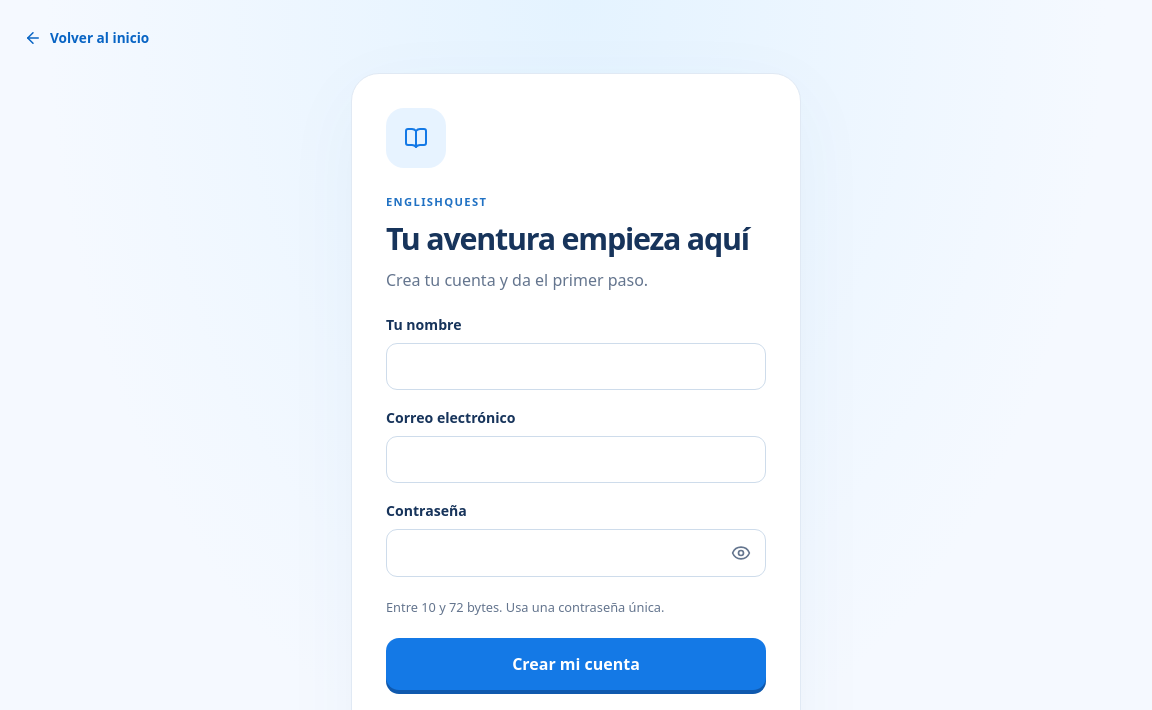
Scenario: Authentication forms › rejects short passwords before registration
Type "Alex" into the field labelled "Tu nombre" at (576, 367), box [386,343,766,390]
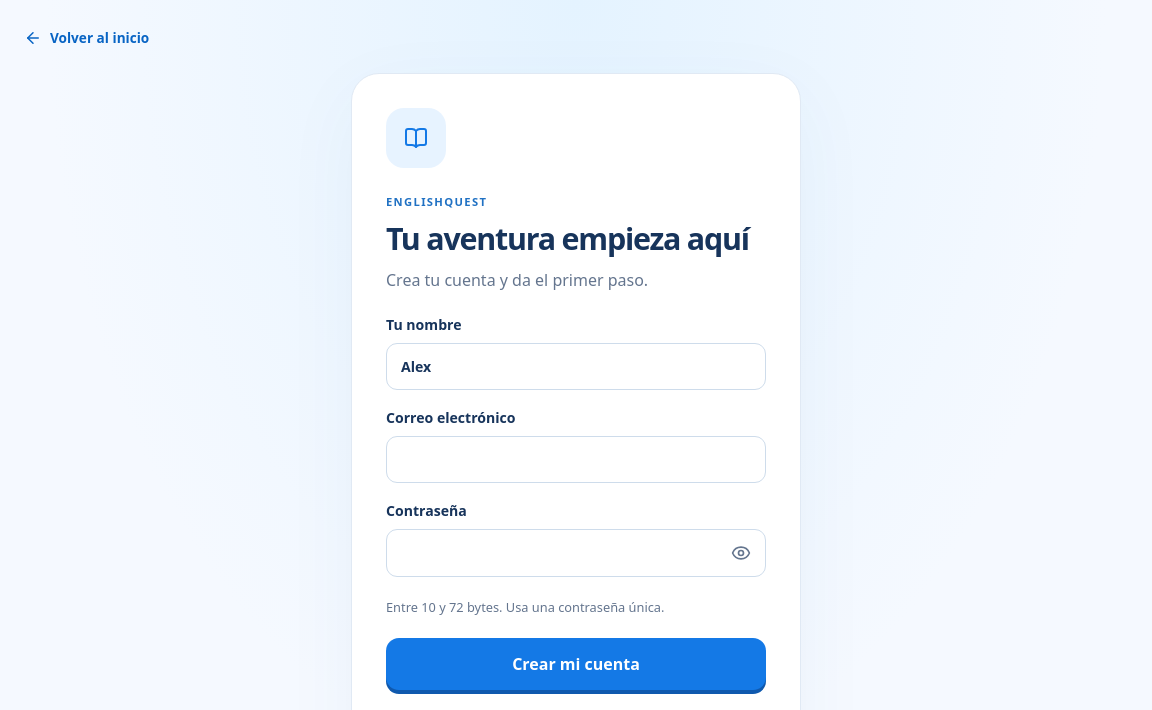
Type "alex@example.org" into the field labelled "Correo electrónico" at (576, 460), box [386,436,766,483]
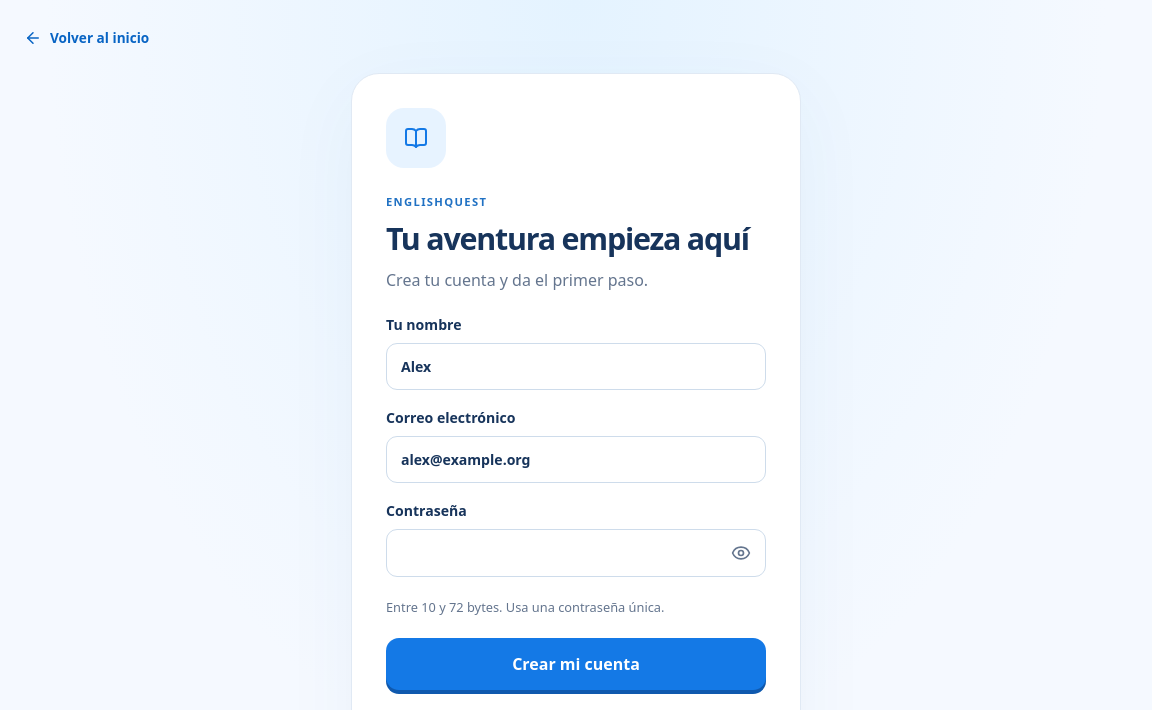
Type "short" into the password field labelled "Contraseña" at (576, 553), box [386,529,766,576]
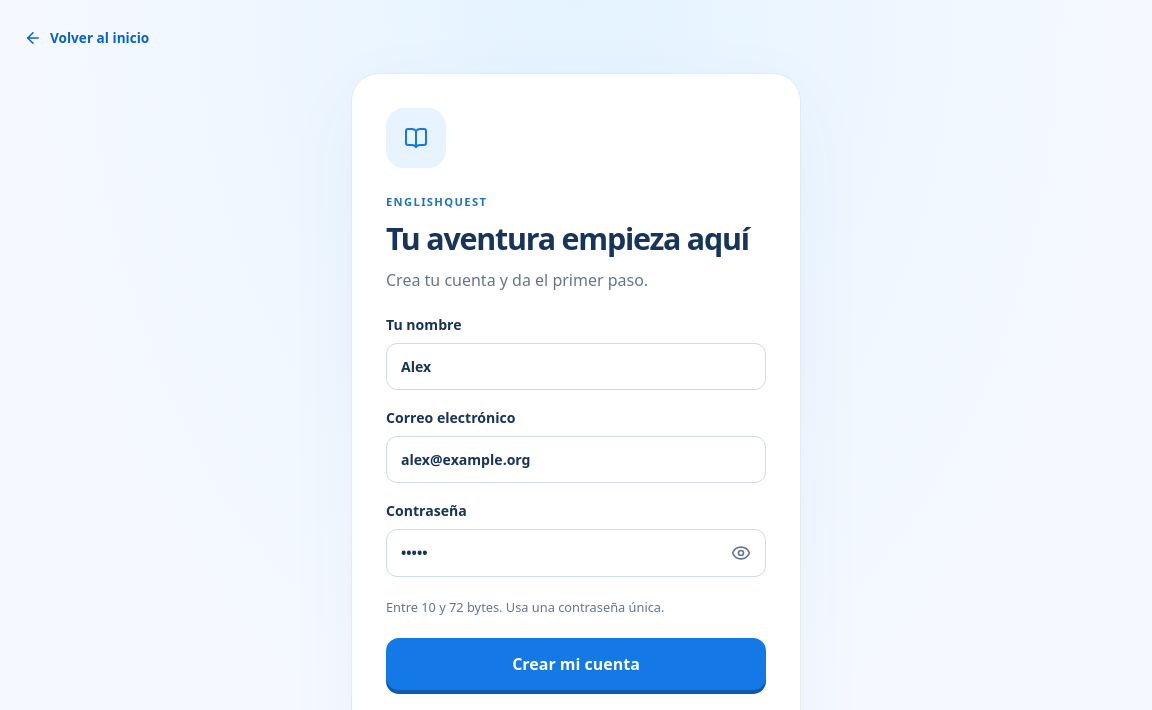
Submit the form named "Crear mi cuenta", box [386,314,766,690]
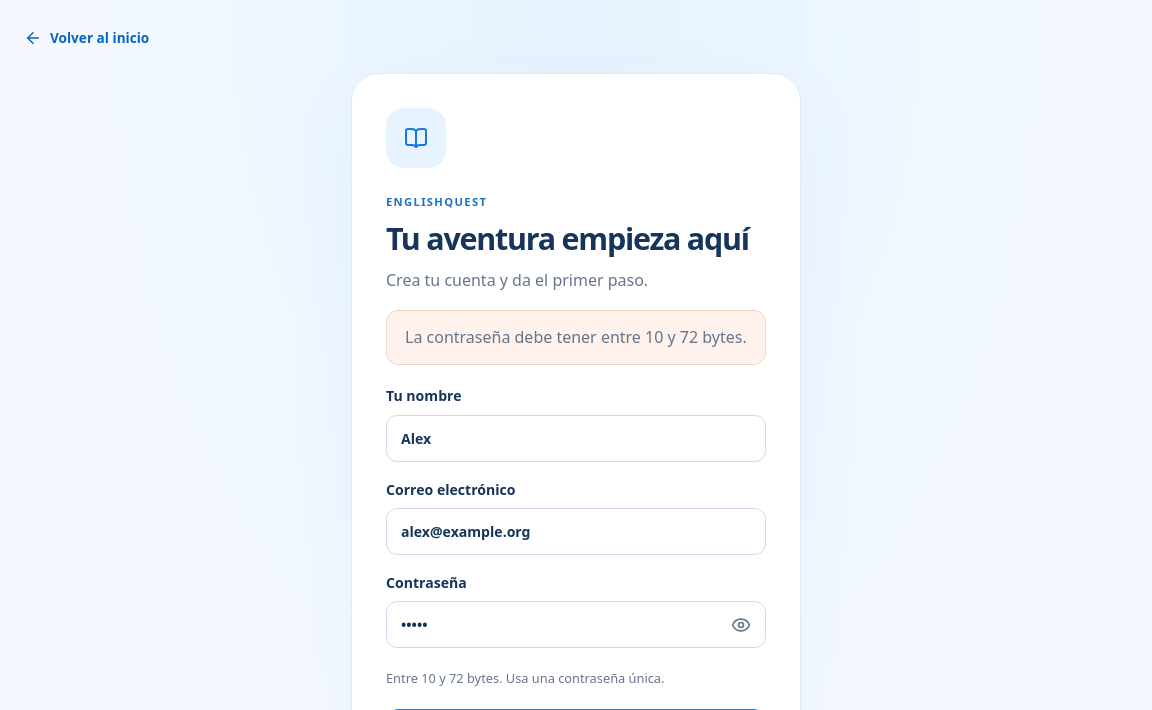
expect the message shows "10 y 72 bytes": met, box [405,326,747,348]
